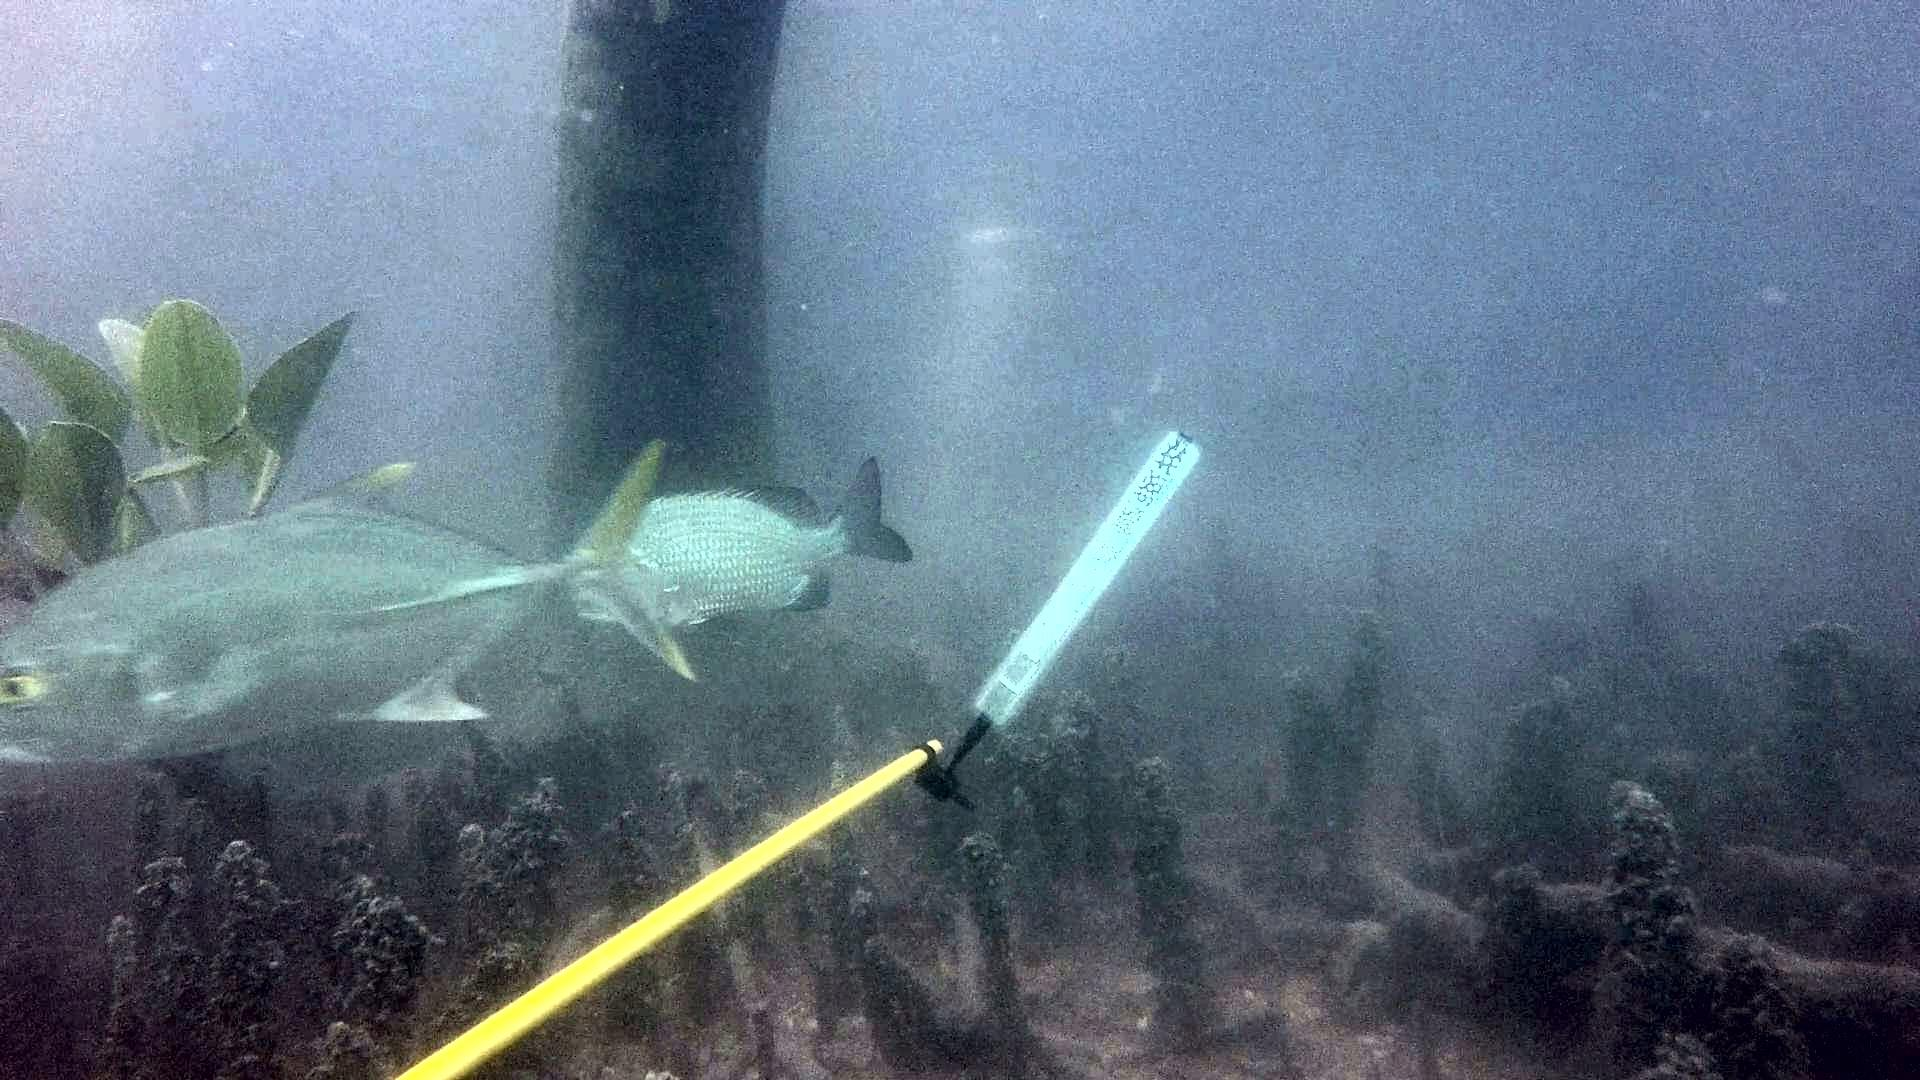acanthopagrus palmaris: (635, 447, 928, 643)
caranx: (0, 431, 721, 771)
